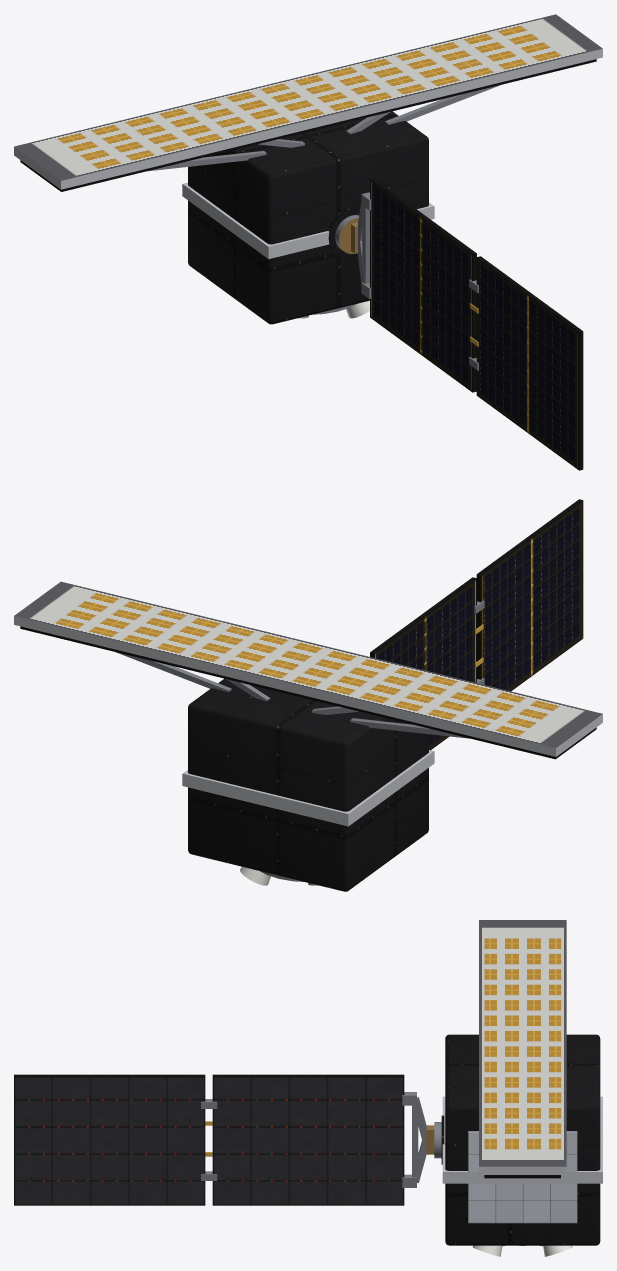
The model's file is iceye.glb.
3 views of the same model, one above another, from view 1: azimuth 30°, elevation 25°; view 2: azimuth 150°, elevation 25°; view 3: azimuth 270°, elevation 25° (orthographic). The views are drawn at different scales.
Parts seen in each view (by area): view 1: bus, wing-Y, sadm_-Y; view 2: bus, wing-Y; view 3: wing-Y, bus.
Part boxes in pixels (x1=…): bus: x1=14, y1=14, x2=602, y2=324; wing-Y: x1=351, y1=178, x2=583, y2=470; sadm_-Y: x1=328, y1=207, x2=359, y2=257; bus: x1=14, y1=581, x2=602, y2=891; wing-Y: x1=370, y1=499, x2=583, y2=750; wing-Y: x1=14, y1=1074, x2=434, y2=1205; bus: x1=442, y1=920, x2=602, y2=1256.
Bounding box in the file's own units: 3.2 × 1.2 × 3.23.
Materials: 15 (6 with a texture image).
